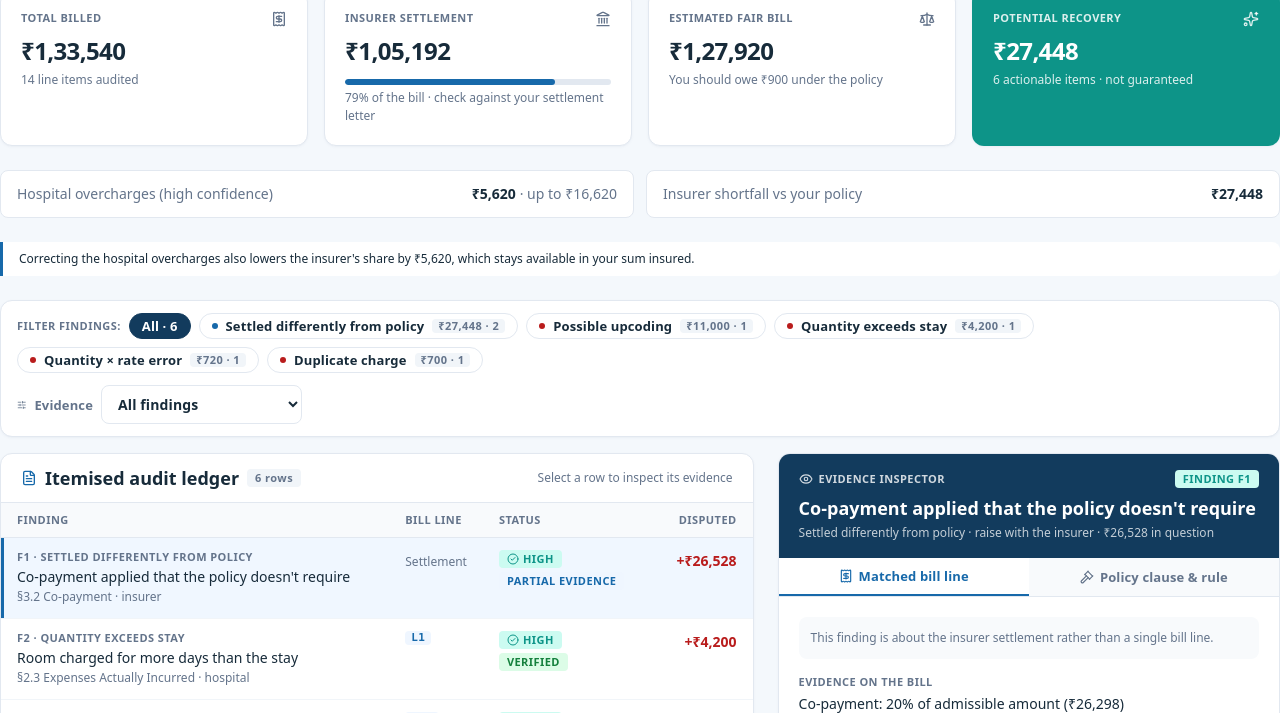
Test case: AuditResults › filters the ledger by finding type
This screenshot has width=1280, height=713.
(page scrolled)
Click the button "Duplicate charge ₹700 · 1". click: (375,360)
box: [267,347,483,373]
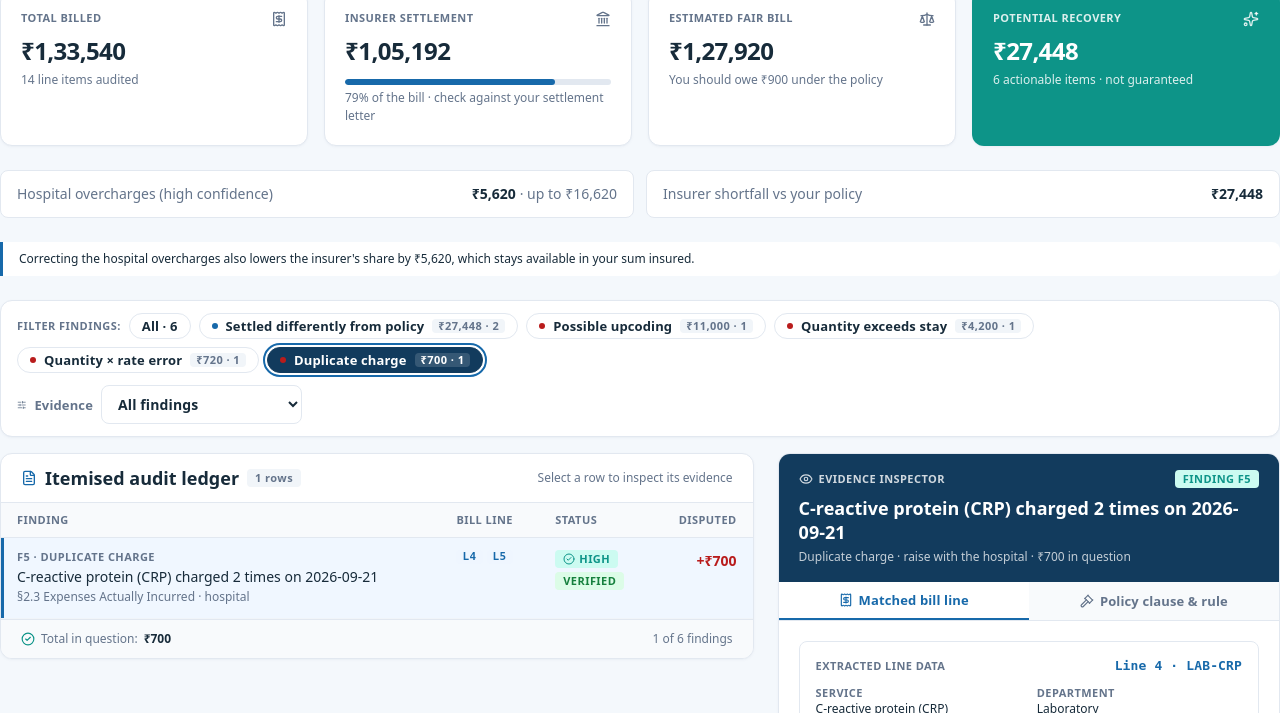
Now the text "1 of 6 findings" is shown, box [652,630,733,648]
